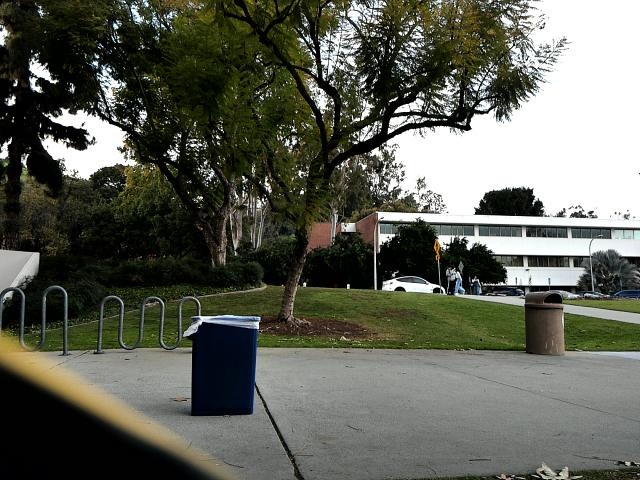trashcan_open: (188, 312, 263, 428)
